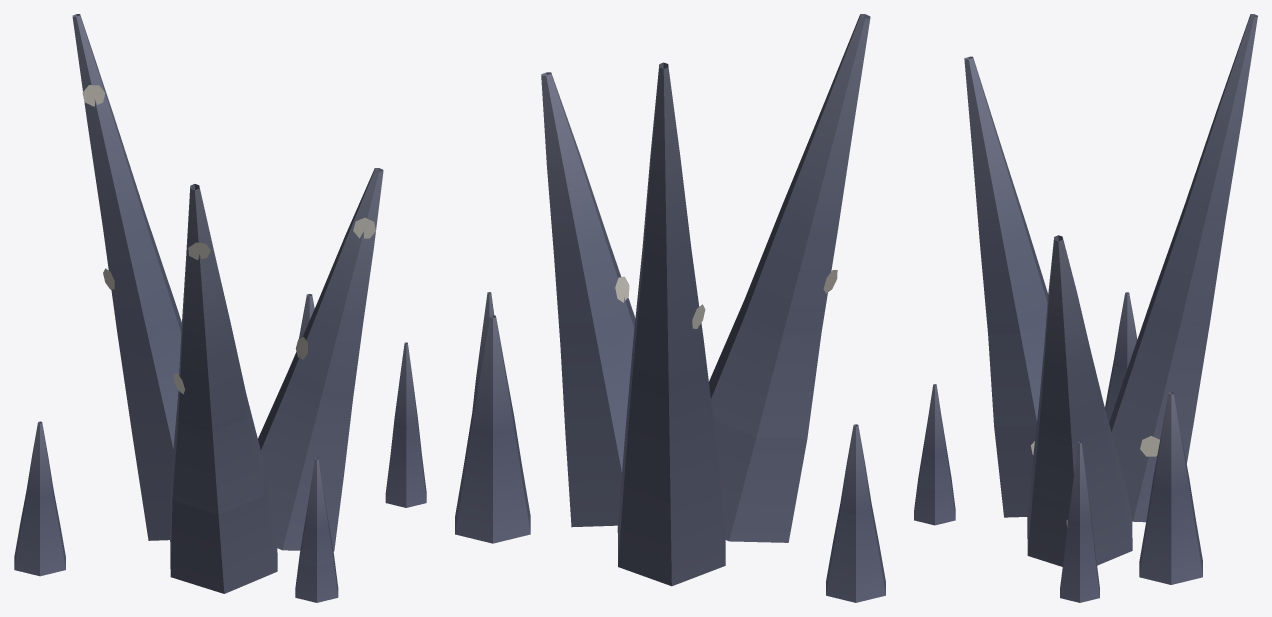
The model's file is crystal_cluster_v0.glb.
The picture shows the model from 3 angles, left to right: view 1: azimuth 30°, elevation 25°; view 2: azimuth 150°, elevation 25°; view 3: azimuth 270°, elevation 25°; orthographic projection. The views are drawn at different scales.
Visible parts, largest first — view 1: world; view 2: world; view 3: world.
Part boxes in pixels (x1,y1,x2,y2): world: (14,14,426,602); world: (455,14,885,602); world: (914,14,1257,602).
Bounding box in the file's own units: 0.8273 × 1 × 0.6513.
